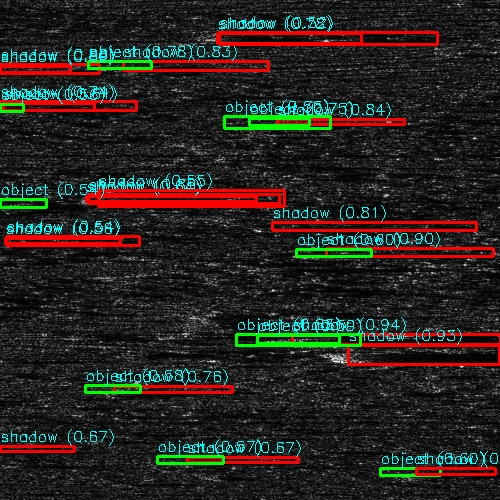rock: (169, 30, 262, 43), (309, 348, 372, 363), (66, 62, 159, 69), (250, 336, 333, 343), (249, 117, 302, 124), (92, 386, 145, 393), (54, 197, 117, 202), (249, 264, 312, 269), (0, 101, 20, 110), (0, 57, 31, 62), (270, 219, 281, 232), (194, 457, 205, 462)
shadow: (341, 348, 500, 363), (276, 219, 450, 232), (216, 30, 339, 43), (292, 336, 500, 343), (0, 101, 142, 110), (113, 62, 272, 69), (86, 197, 287, 202), (276, 117, 406, 124), (0, 65, 98, 74), (119, 386, 234, 393), (281, 264, 410, 269), (200, 457, 317, 462), (5, 57, 118, 62), (314, 250, 357, 253)
